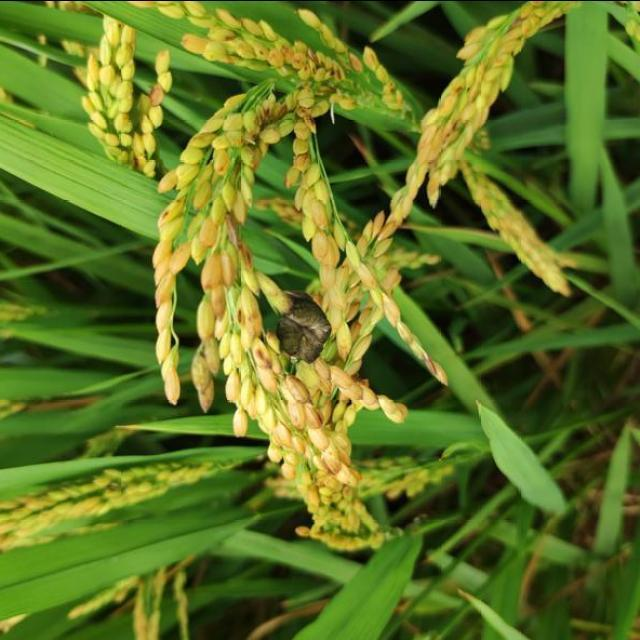Leaf_Scald: (270, 287, 330, 363)
